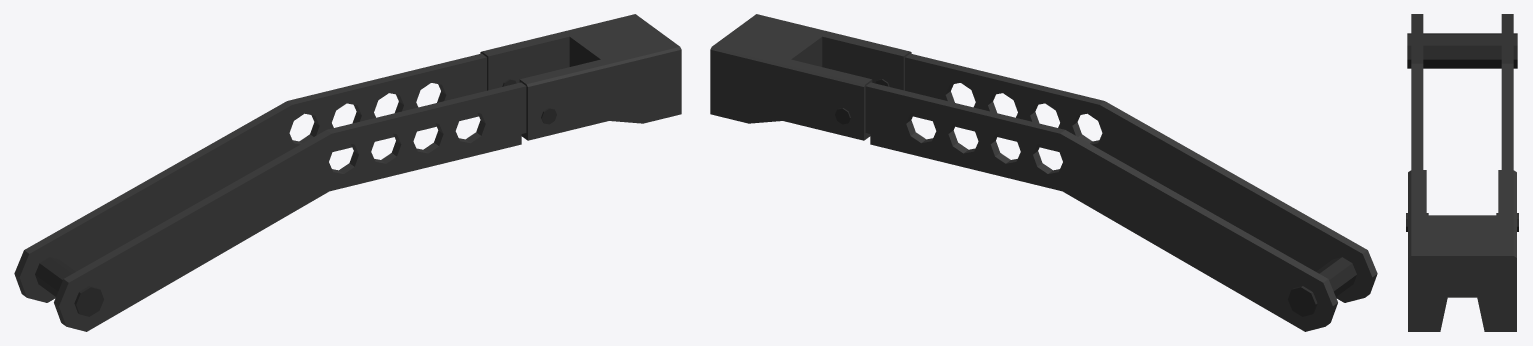
File: Shotgun5_01_2.fbx
3 views of the same model, side by side, from view 1: azimuth 30°, elevation 25°; view 2: azimuth 150°, elevation 25°; view 3: azimuth 270°, elevation 25° (orthographic). The views are drawn at different scales.
Visible parts, largest first — view 1: Shotgun5_01_2; view 2: Shotgun5_01_2; view 3: Shotgun5_01_2.
Boxes of the visible parts, x1=… form: Shotgun5_01_2: x1=14, y1=14, x2=681, y2=331; Shotgun5_01_2: x1=710, y1=14, x2=1377, y2=331; Shotgun5_01_2: x1=1406, y1=14, x2=1518, y2=331.
Bounding box in the file's own units: 0.4016 × 0.0868 × 0.0553.
